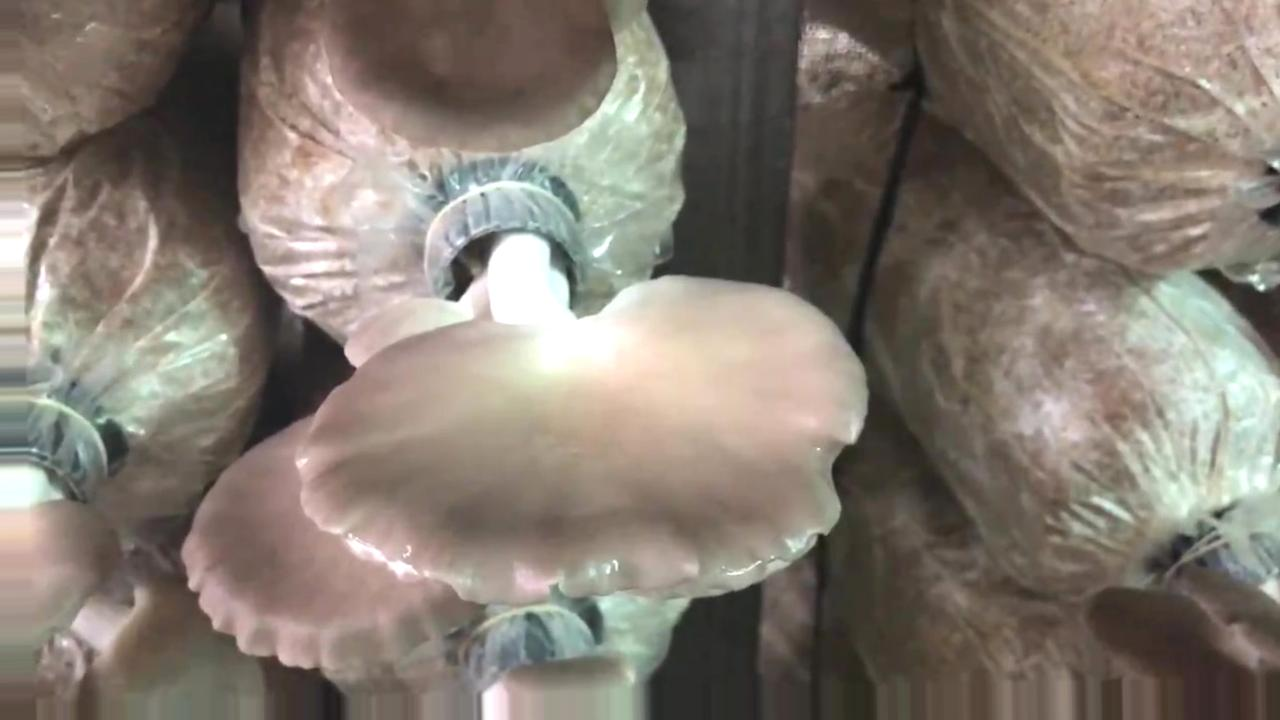nam: (289, 163, 873, 609), (173, 412, 488, 670), (320, 5, 623, 157), (1081, 521, 1280, 685), (1, 387, 123, 634)
